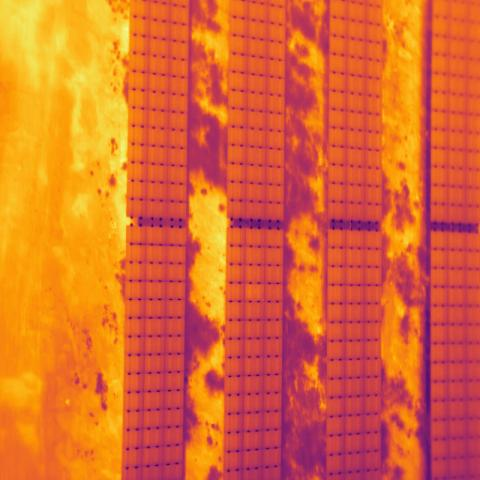fault: (246, 283, 264, 303)
